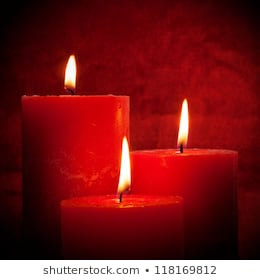Fire: (118, 134, 134, 196), (174, 97, 190, 153), (63, 52, 82, 93)
